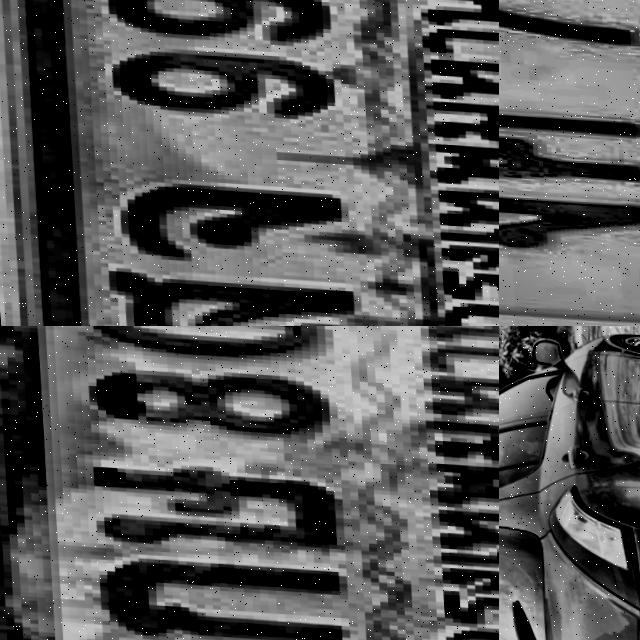license-plate: (0, 0, 499, 326), (0, 326, 499, 640), (499, 0, 640, 326)
